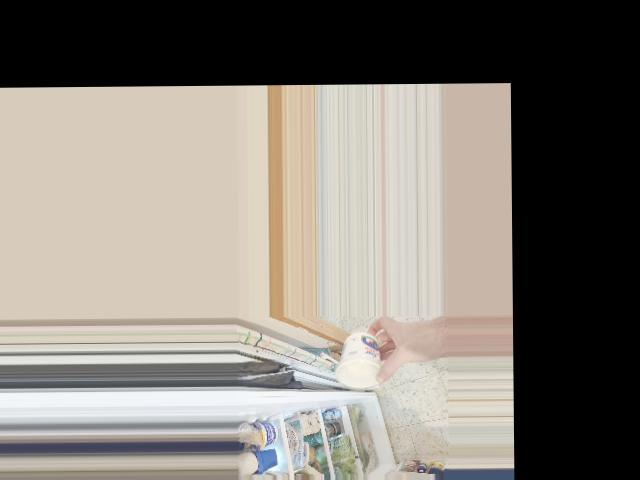cotage: (337, 327, 385, 388)
